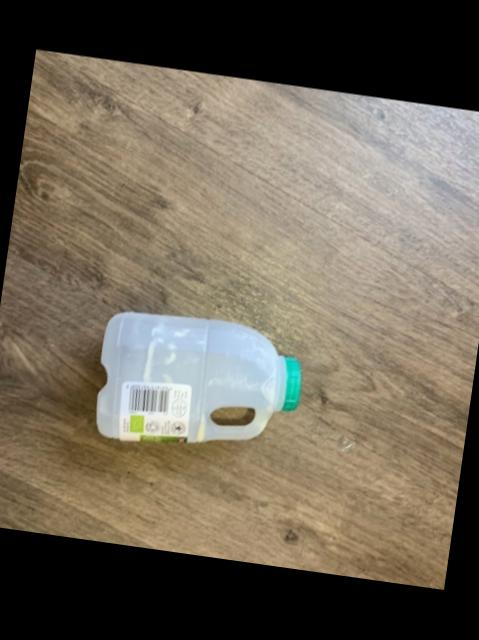plastic: (96, 314, 300, 444)
